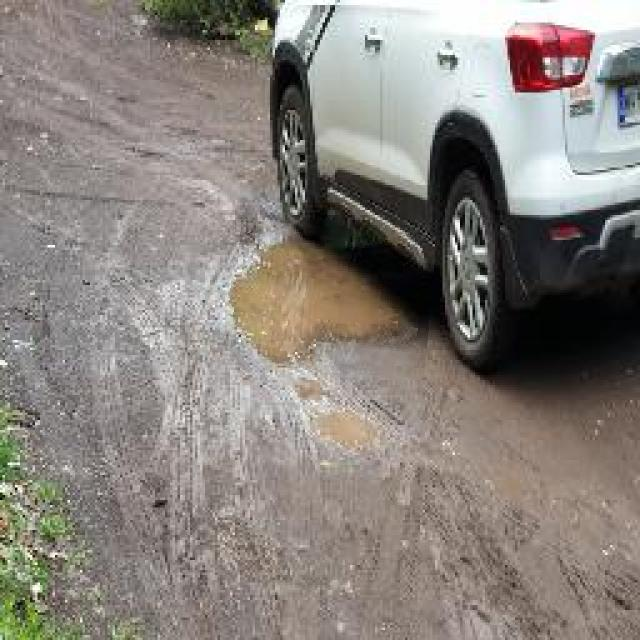puddle: (226, 224, 435, 375)
